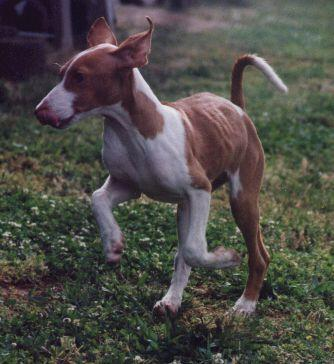Ibizan_hound: (32, 14, 293, 332)
